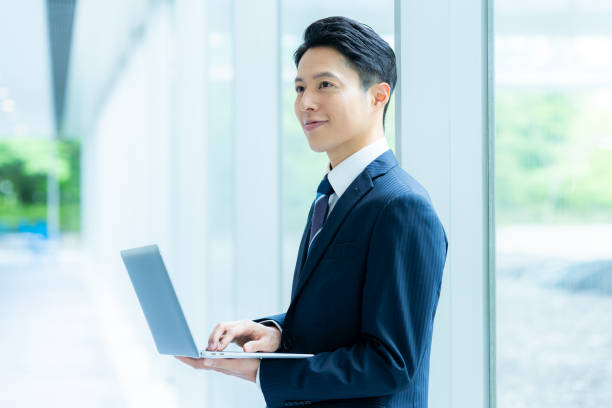Male: (238, 7, 457, 408)
